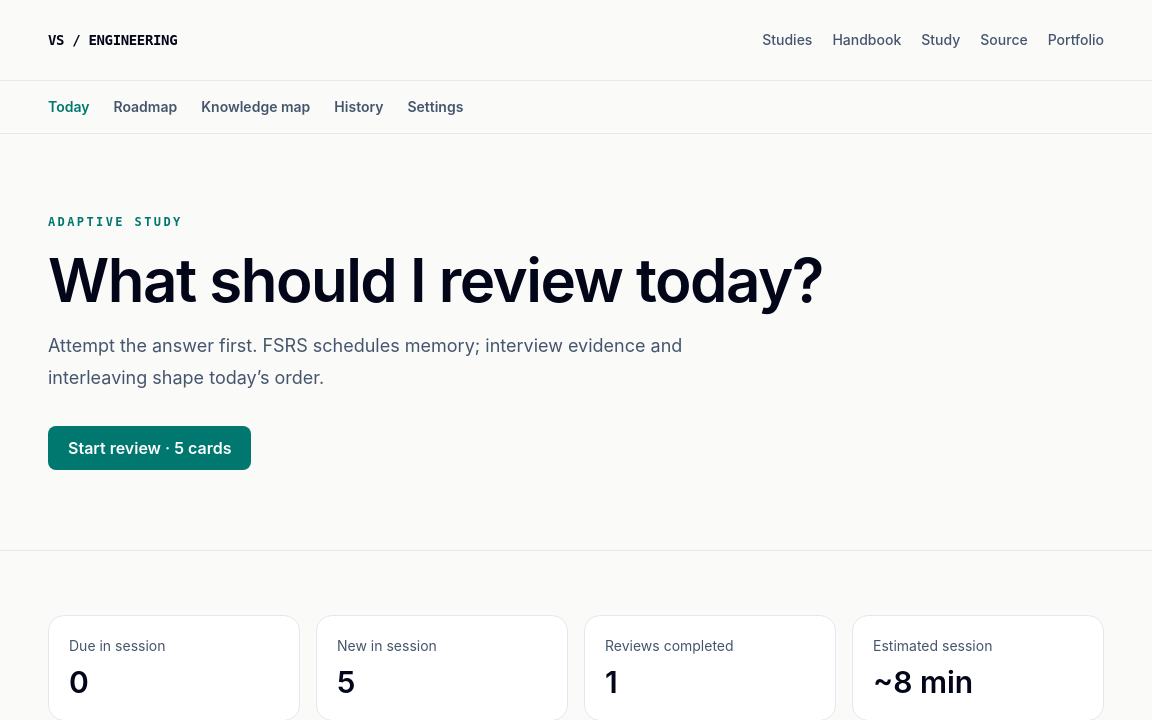
Scenario: study pages › shows category analytics, memory labels, and chronological history
Click the link "Knowledge map" at {"x": 256, "y": 106}, box 201,98 -> 310,115
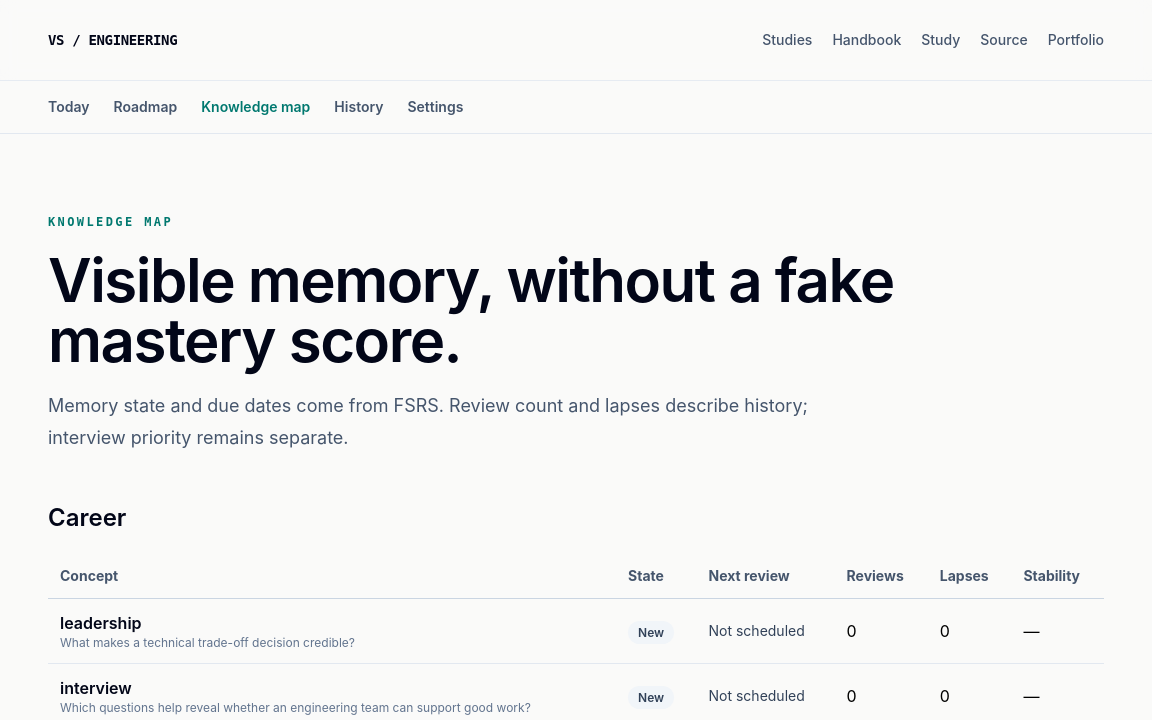
Result: the heading "Visible memory, without a fake mastery score." is shown at 48,244 -> 894,376
Click the link "History" at {"x": 359, "y": 106}, box 334,98 -> 383,115
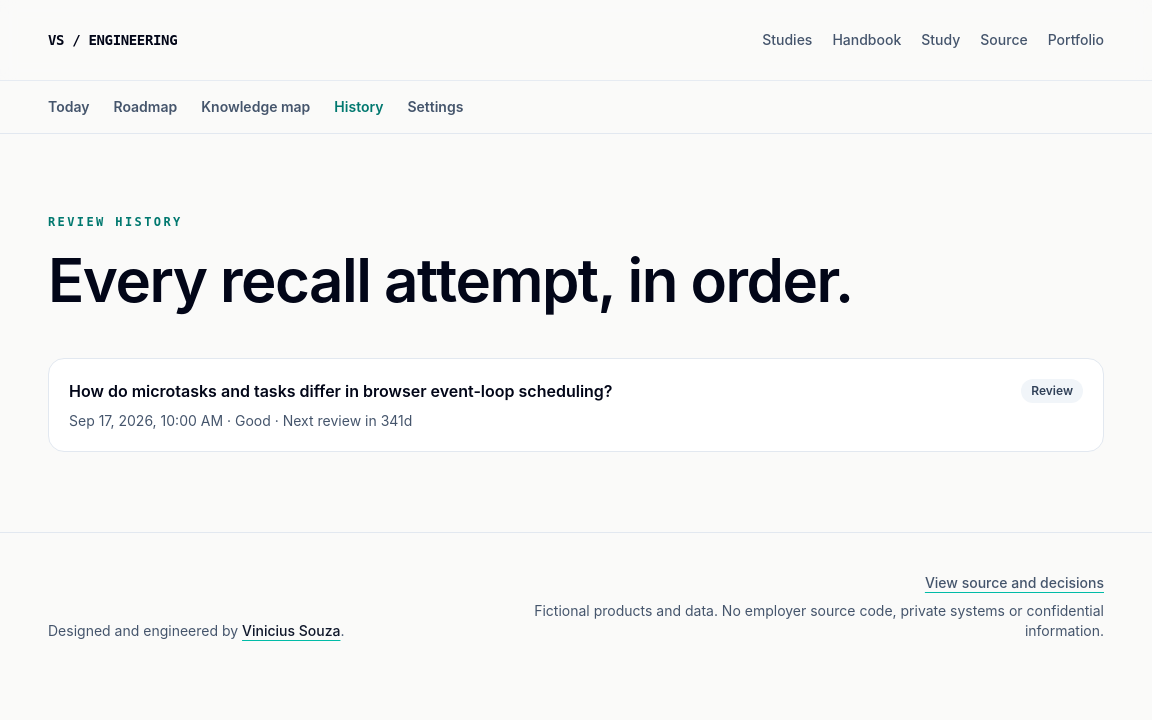
Result: the list item "How do microtasks and tasks differ" is shown at 69,381 -> 613,401
